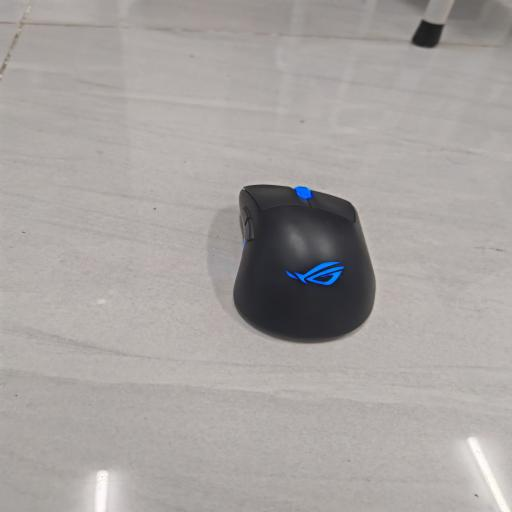mouse: (233, 185, 375, 345)
